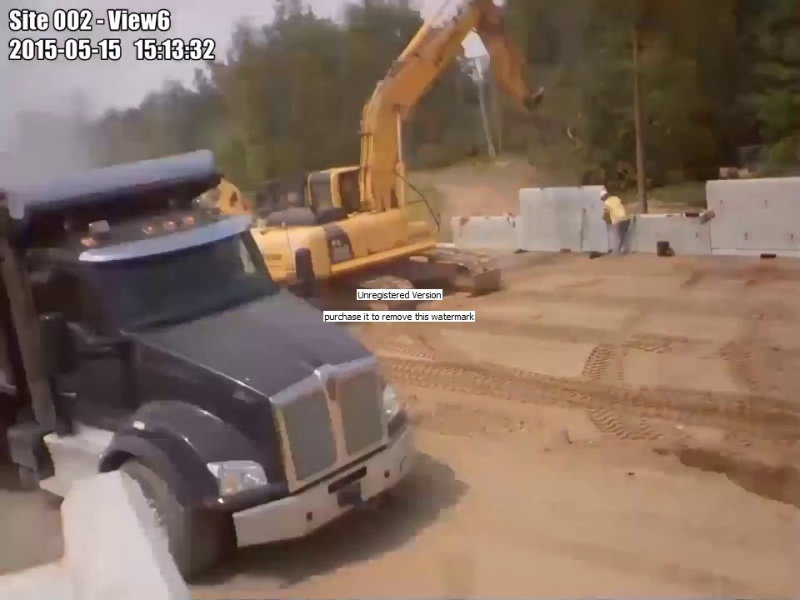dumptruck: (1, 149, 417, 582)
excavator: (237, 1, 549, 310)
hardhat: (599, 190, 606, 197)
person: (598, 190, 631, 255)
wall: (450, 176, 800, 262)
